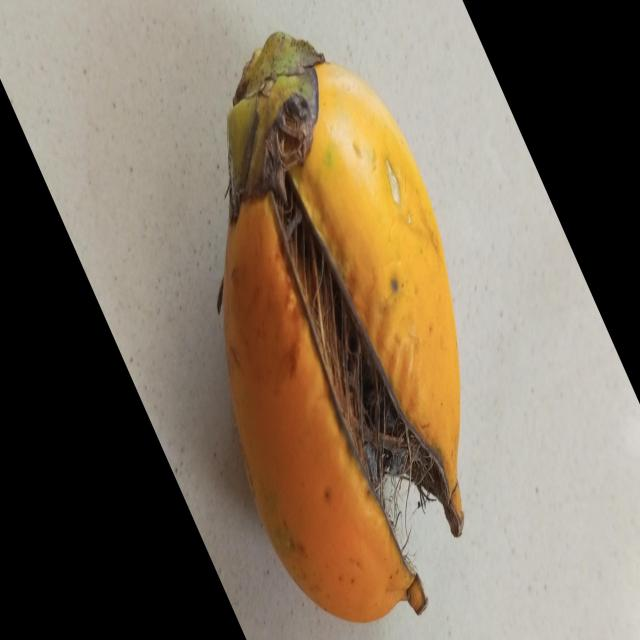damaged: (217, 32, 464, 622)
